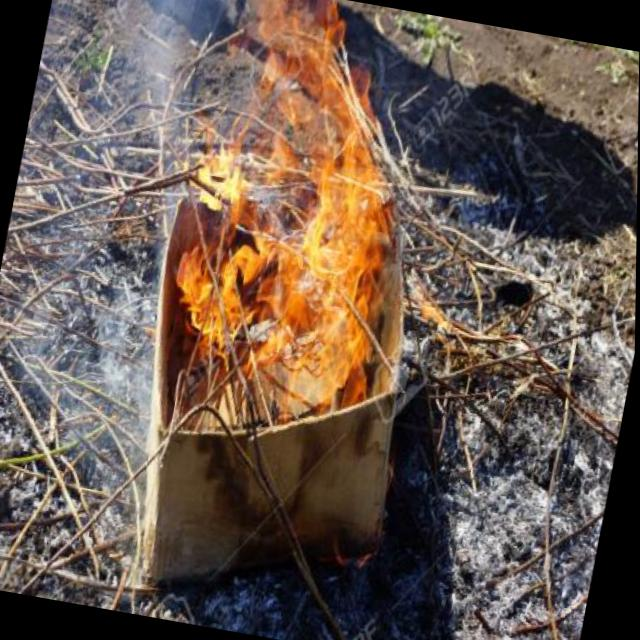box: (96, 104, 474, 634)
